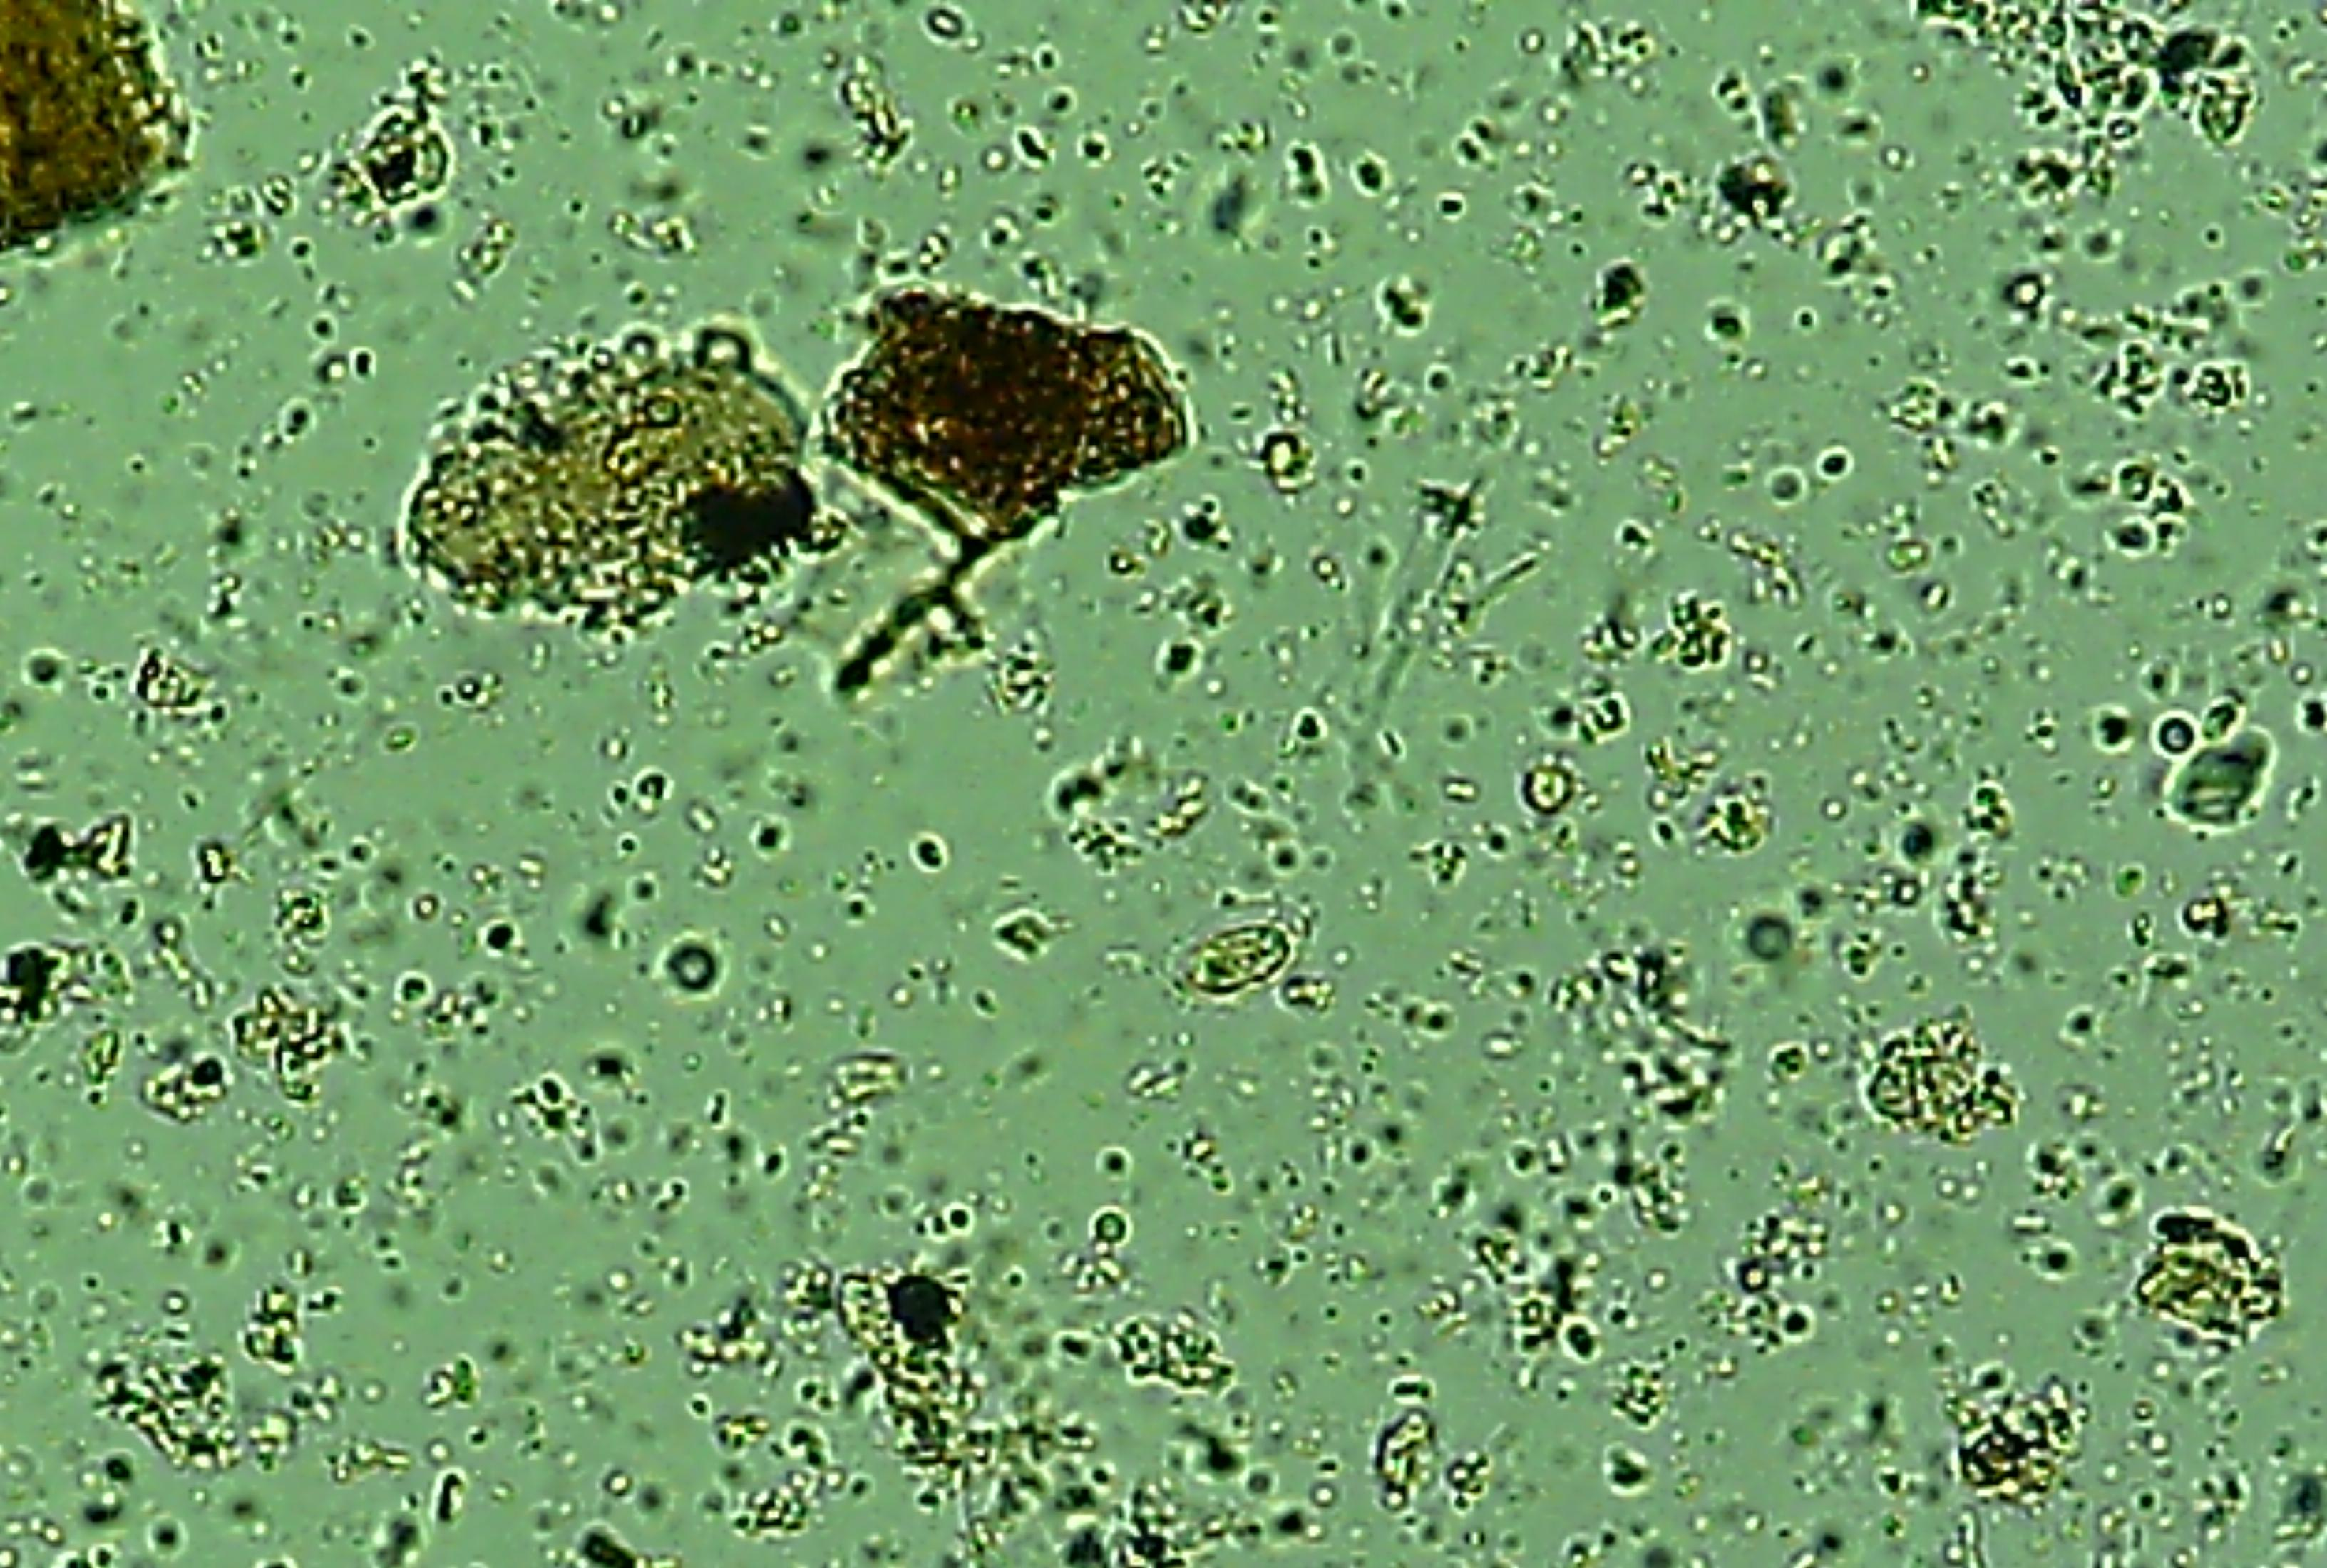Giardia duodenalis: (1157, 891, 1323, 1015)
